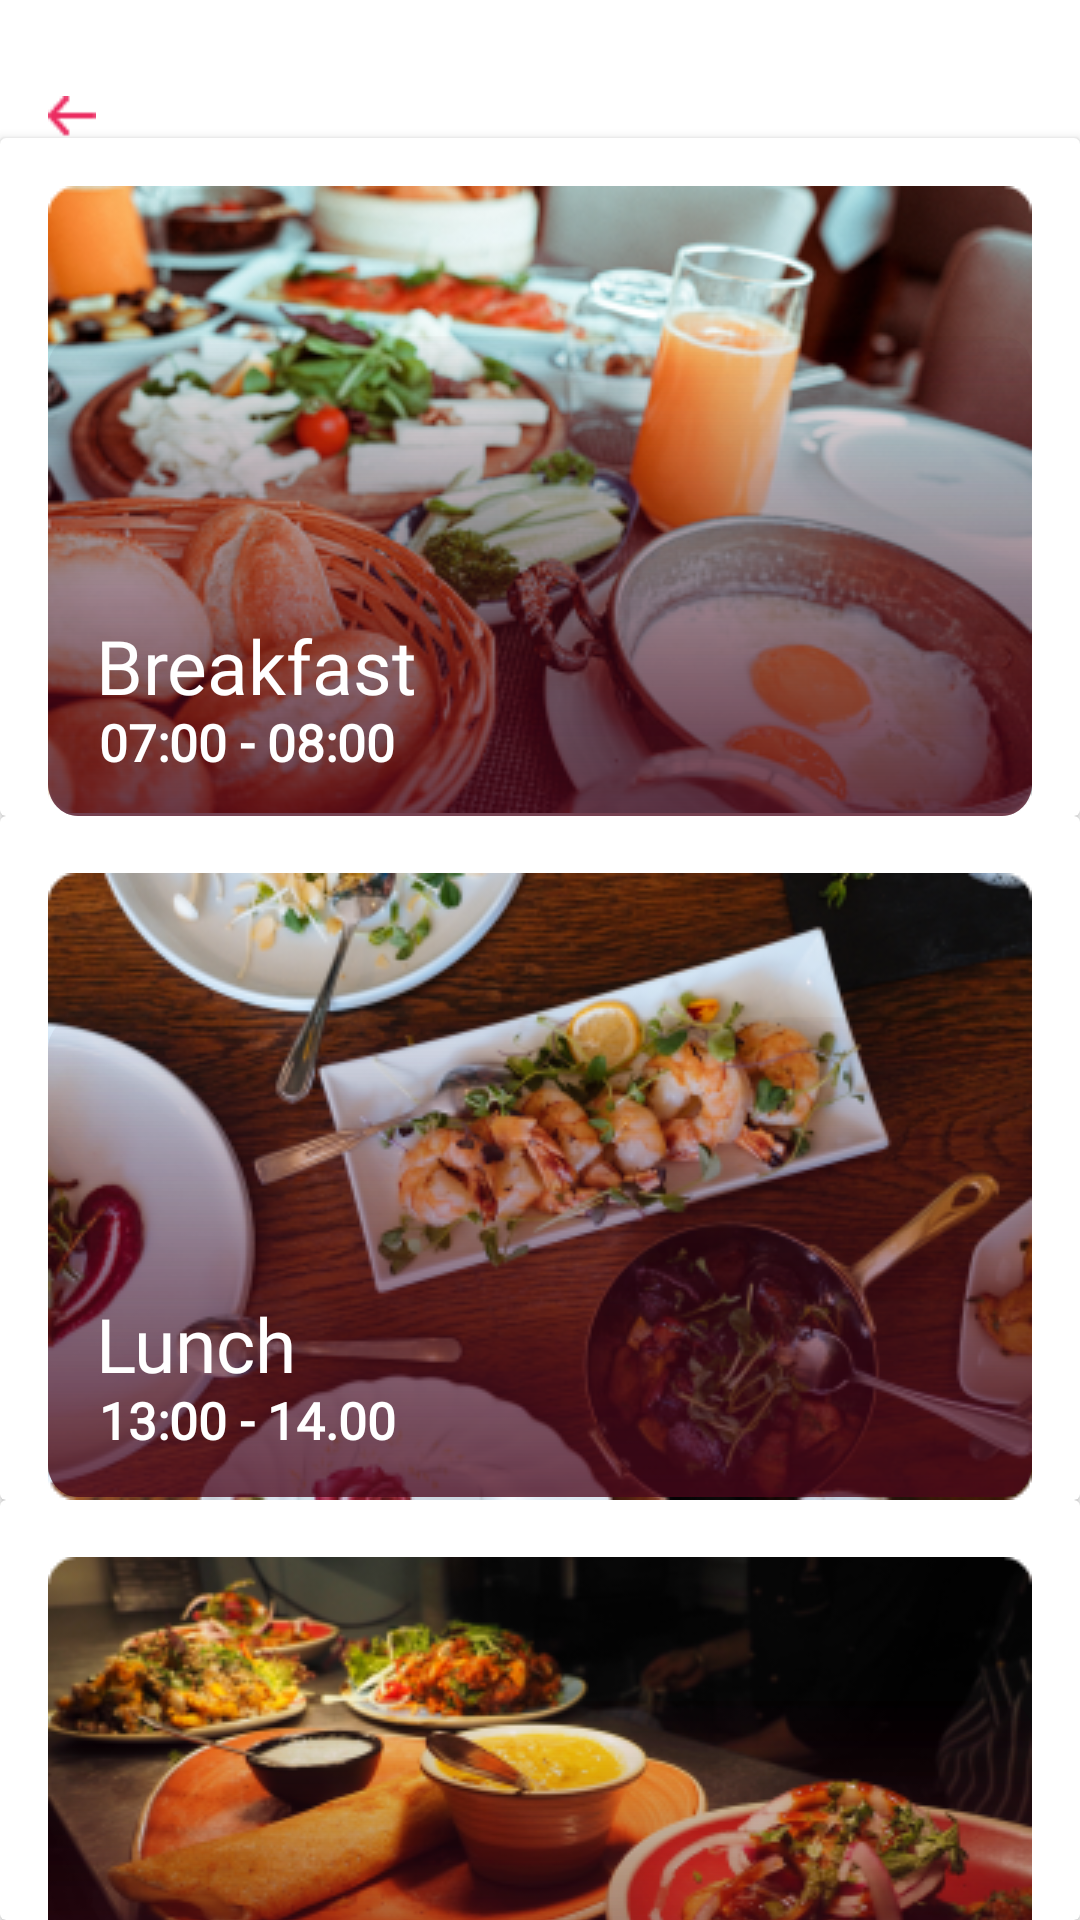

Screen size 1080 x 1920. Icon name, then its center in pixels as (x=x, y=y):
backpink vektor: (x=72, y=116)
